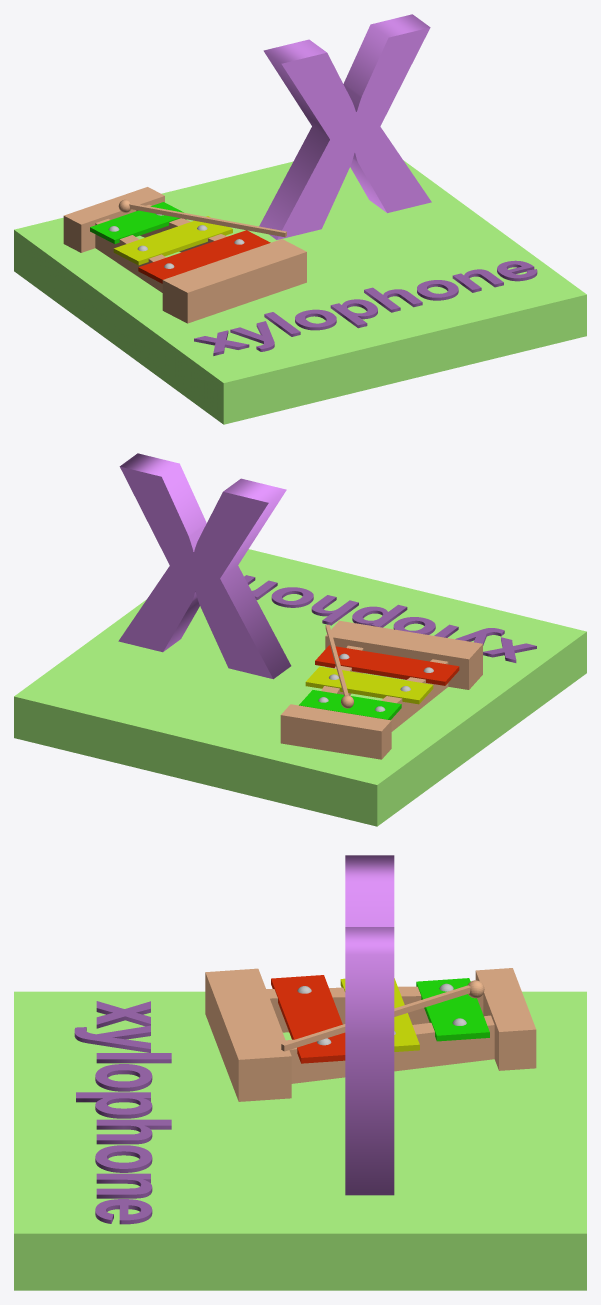
File: xletter.glb
3 renders of one model, top to bottom at view 1: azimuth 30°, elevation 25°; view 2: azimuth 150°, elevation 25°; view 3: azimuth 270°, elevation 25°, orthographic. The views are drawn at different scales.
Parts seen in each view (by area): view 1: Cube.022, Text.003, Cube.002, Text.002; view 2: Cube.022, Text.003, Cube.002, Text.002; view 3: Cube.022, Cube.002, Text.003, Text.002.
Part boxes in pixels (box(x1,y1,x2,y2)): Cube.022: box(14, 160, 586, 424); Text.003: box(259, 14, 431, 239); Cube.002: box(63, 187, 306, 323); Text.002: box(194, 260, 537, 355); Cube.022: box(14, 549, 586, 826); Text.003: box(118, 453, 291, 679); Cube.002: box(280, 620, 482, 759); Text.002: box(244, 575, 536, 662); Cube.022: box(14, 991, 586, 1290); Cube.002: box(205, 968, 536, 1101); Text.003: box(345, 855, 394, 1195); Text.002: box(74, 1001, 171, 1224).
Bounding box in the file's own units: 0.3237 × 0.1946 × 0.3237.
